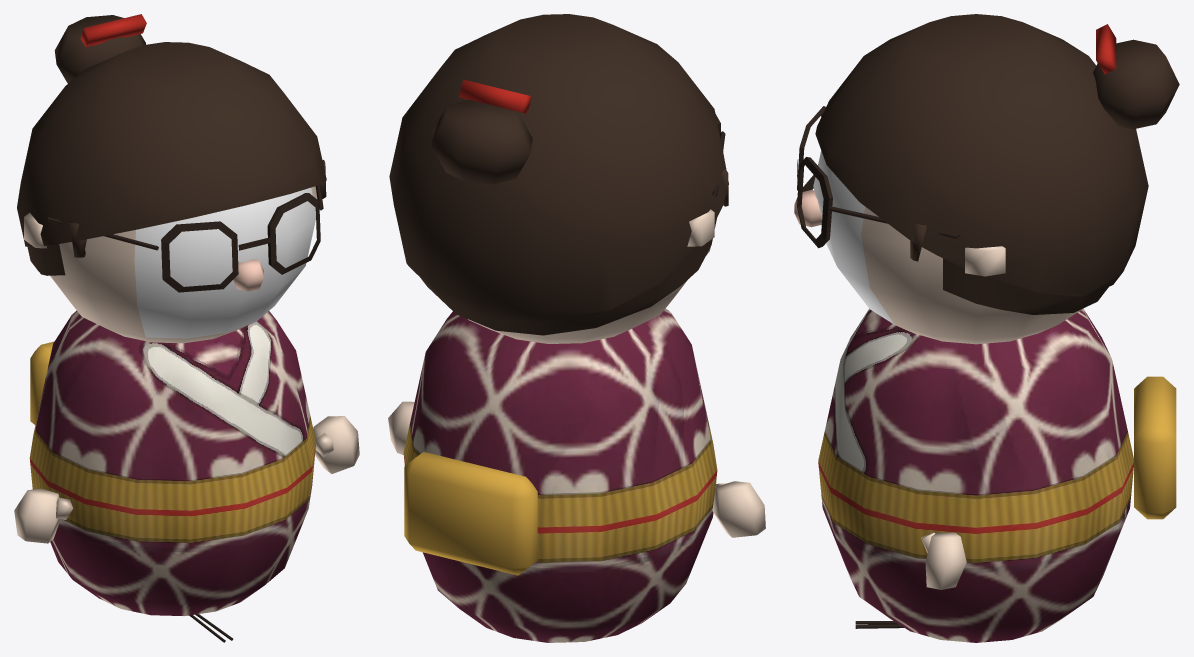
File: crew_serverF.glb
3 renders of one model, left to right at view 1: azimuth 30°, elevation 25°; view 2: azimuth 150°, elevation 25°; view 3: azimuth 270°, elevation 25°, orthographic. The views are drawn at different scales.
Parts seen in each view (by area): view 1: BossBody, BossHairTop, BossFace, BossHead, BossGlass, BossHairBun, BossHandLMitt, BossHandRMitt, BossComb, BossObiKnot, BossHair, BossNose (+1 smaller); view 2: BossHairTop, BossBody, BossObiKnot, BossHairBun, BossHair, BossHandLMitt, BossHead, BossComb, BossHandRMitt, BossEar-1; view 3: BossBody, BossHairTop, BossHead, BossObiKnot, BossHairBun, BossFace, BossHair, BossHandRMitt, BossGlass, BossEar1, BossComb, BossNose.
Part boxes in pixels (x1=…): BossBody: x1=29, y1=310, x2=316, y2=615; BossHairTop: x1=17, y1=42, x2=326, y2=246; BossFace: x1=134, y1=187, x2=315, y2=338; BossHead: x1=50, y1=186, x2=317, y2=343; BossGlass: x1=161, y1=193, x2=320, y2=292; BossHairBun: x1=54, y1=15, x2=145, y2=83; BossHandLMitt: x1=14, y1=488, x2=60, y2=543; BossHandRMitt: x1=313, y1=416, x2=359, y2=473; BossComb: x1=80, y1=14, x2=146, y2=47; BossObiKnot: x1=30, y1=341, x2=54, y2=424; BossHair: x1=27, y1=244, x2=65, y2=275; BossNose: x1=233, y1=259, x2=263, y2=291; BossHairTop: x1=389, y1=14, x2=728, y2=322; BossBody: x1=403, y1=308, x2=717, y2=642; BossObiKnot: x1=404, y1=452, x2=537, y2=575; BossHairBun: x1=431, y1=99, x2=532, y2=184; BossHair: x1=420, y1=218, x2=716, y2=335; BossHandLMitt: x1=712, y1=481, x2=765, y2=537; BossHead: x1=468, y1=219, x2=716, y2=343; BossComb: x1=459, y1=79, x2=531, y2=113; BossHandRMitt: x1=388, y1=401, x2=414, y2=454; BossEar-1: x1=687, y1=209, x2=714, y2=246; BossBody: x1=818, y1=308, x2=1133, y2=642; BossHairTop: x1=815, y1=14, x2=1148, y2=296; BossHead: x1=861, y1=207, x2=1082, y2=344; BossObiKnot: x1=1134, y1=376, x2=1176, y2=519; BossHairBun: x1=1093, y1=39, x2=1179, y2=129; BossFace: x1=813, y1=151, x2=894, y2=324; BossHair: x1=943, y1=258, x2=1108, y2=314; BossHandRMitt: x1=925, y1=532, x2=966, y2=589; BossGlass: x1=797, y1=106, x2=832, y2=248; BossEar1: x1=965, y1=246, x2=1005, y2=276; BossComb: x1=1096, y1=24, x2=1116, y2=74; BossNose: x1=794, y1=190, x2=821, y2=227.
Size of the model in its own units: 0.709 by 1.1 by 0.6385.
10 materials, 3 textured.
